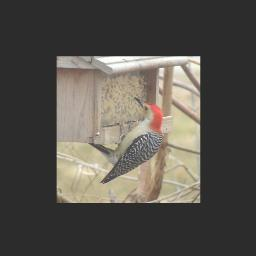Woodpecker: (93, 96, 167, 181)
